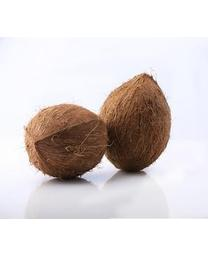coconut: (22, 100, 106, 197), (99, 73, 168, 175)
